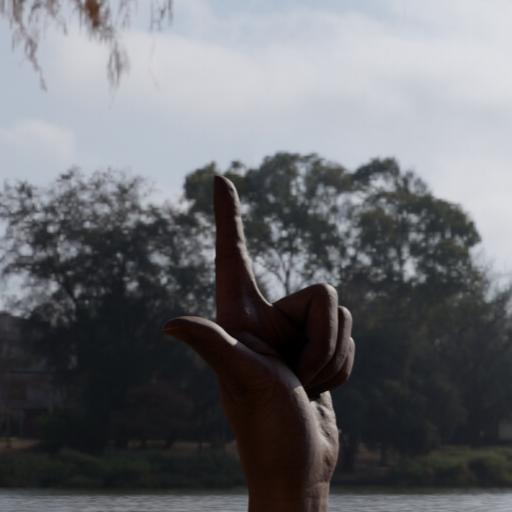L: (154, 158, 364, 512)
